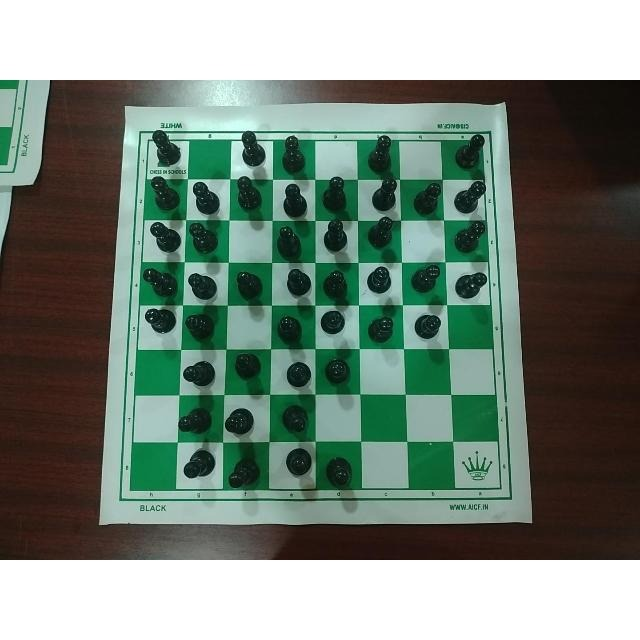black-pawn: (325, 449, 361, 497), (143, 175, 181, 215), (276, 130, 310, 174), (453, 129, 491, 168), (140, 264, 178, 302), (232, 130, 268, 170), (363, 131, 399, 171), (145, 127, 182, 165), (183, 306, 218, 346), (178, 359, 219, 393), (187, 179, 223, 217), (147, 220, 183, 258), (458, 218, 489, 261), (228, 456, 265, 492), (454, 266, 492, 301), (181, 448, 219, 483), (410, 312, 449, 346), (233, 346, 267, 385), (142, 305, 176, 343), (232, 175, 264, 215), (320, 173, 352, 213), (367, 310, 399, 350), (279, 403, 315, 438), (320, 264, 354, 301), (273, 222, 306, 260), (316, 306, 354, 339), (277, 180, 311, 216), (413, 180, 445, 218), (455, 179, 488, 215), (178, 406, 214, 438), (368, 176, 400, 211), (366, 217, 397, 253), (282, 446, 311, 484), (188, 221, 220, 255), (187, 269, 219, 303), (233, 267, 265, 301), (324, 356, 356, 390), (223, 407, 256, 439), (365, 263, 396, 297), (283, 267, 312, 303), (412, 263, 444, 295), (282, 361, 313, 393), (275, 310, 305, 343), (324, 219, 350, 254)
